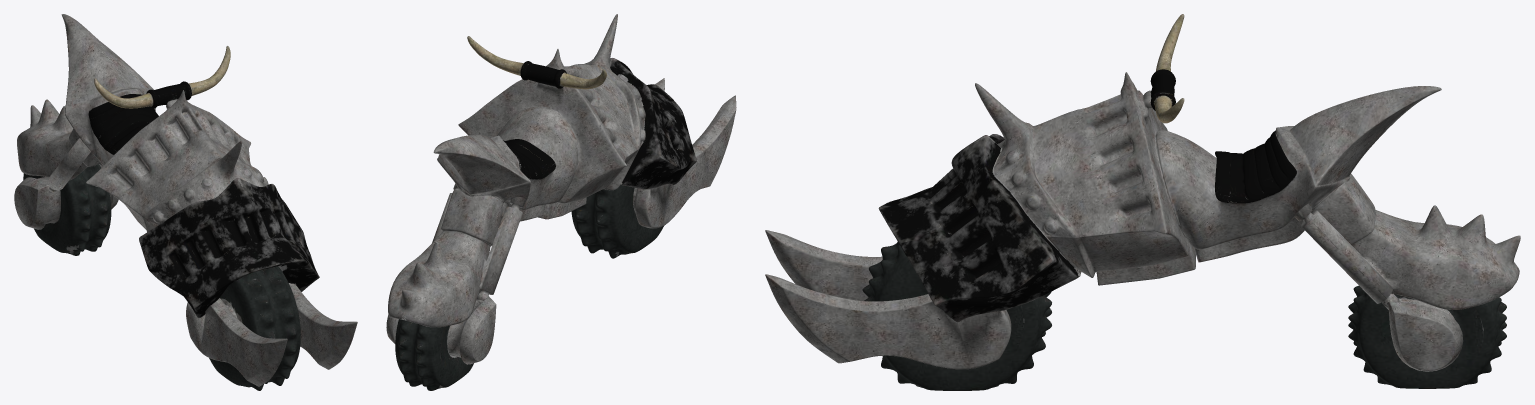
Rendered from MZ4250 - Devils Ride Black.glb.
The picture shows the model from 3 angles, left to right: view 1: azimuth 30°, elevation 25°; view 2: azimuth 150°, elevation 25°; view 3: azimuth 270°, elevation 25°; orthographic projection. The views are drawn at different scales.
Parts seen in each view (by area): view 1: Devil s Ride.001; view 2: Devil s Ride.001; view 3: Devil s Ride.001.
Part boxes in pixels (x1,y1,x2,y2): Devil s Ride.001: (14,14,357,390); Devil s Ride.001: (386,14,736,390); Devil s Ride.001: (765,14,1520,390).
Bounding box in the file's own units: 22.66 × 32.3 × 69.07.
1 material, 1 textured.
